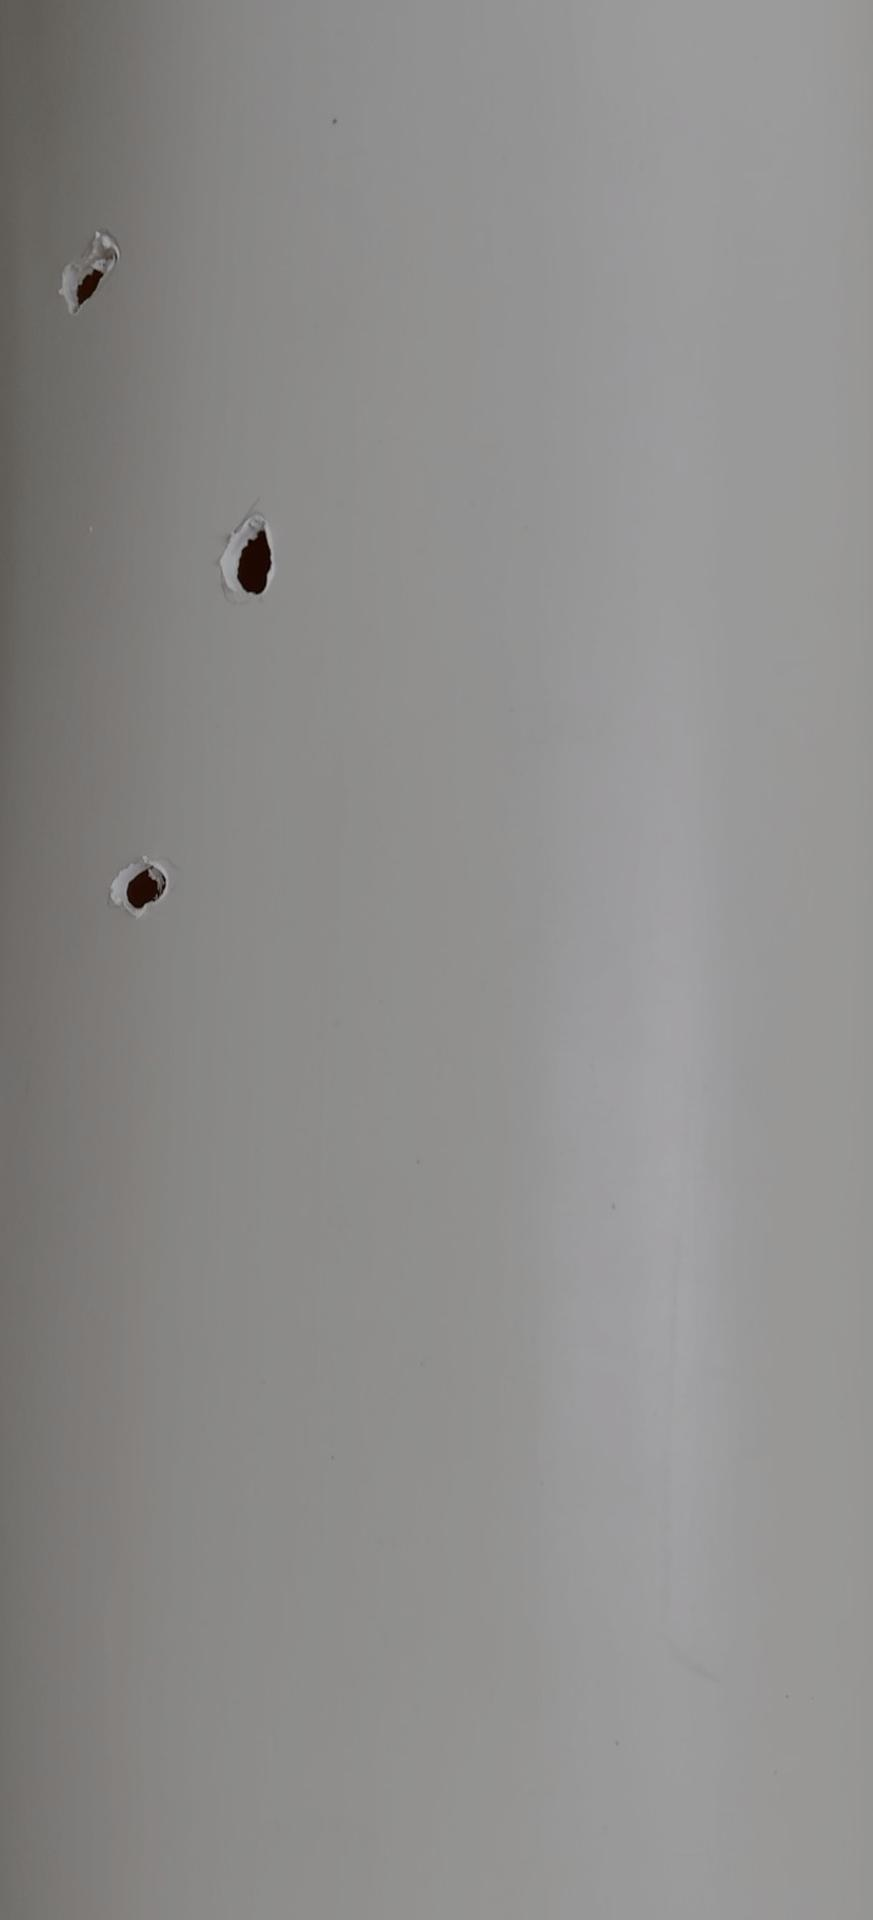kongdong: (51, 229, 140, 315), (107, 849, 193, 933), (211, 513, 287, 604)
